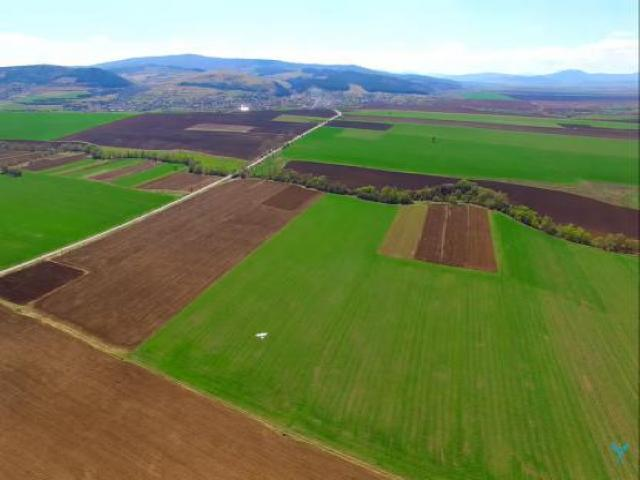uav: (252, 324, 271, 345)
